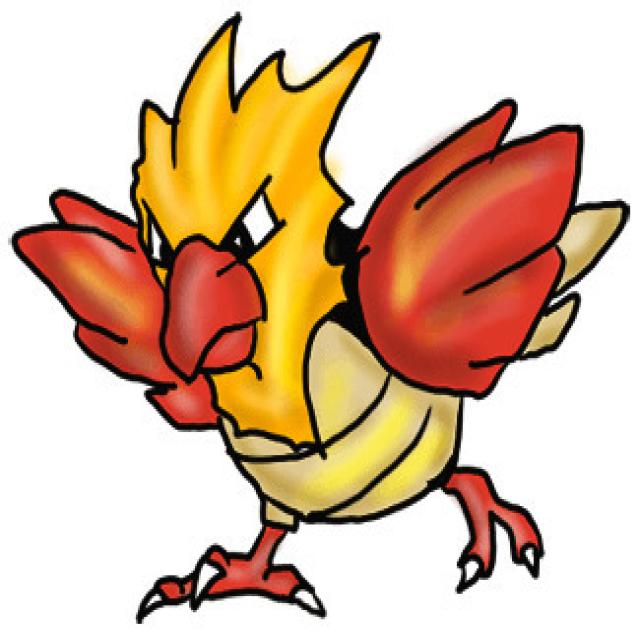Spearow: (79, 46, 567, 617)
